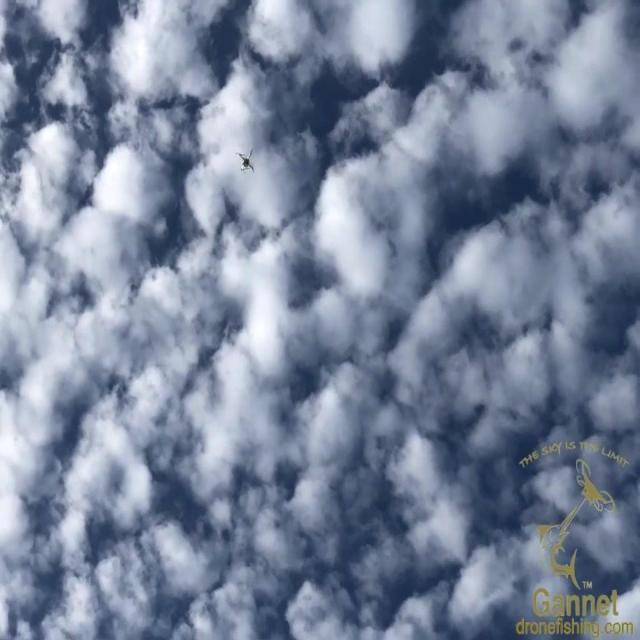drone: (234, 146, 256, 176)
